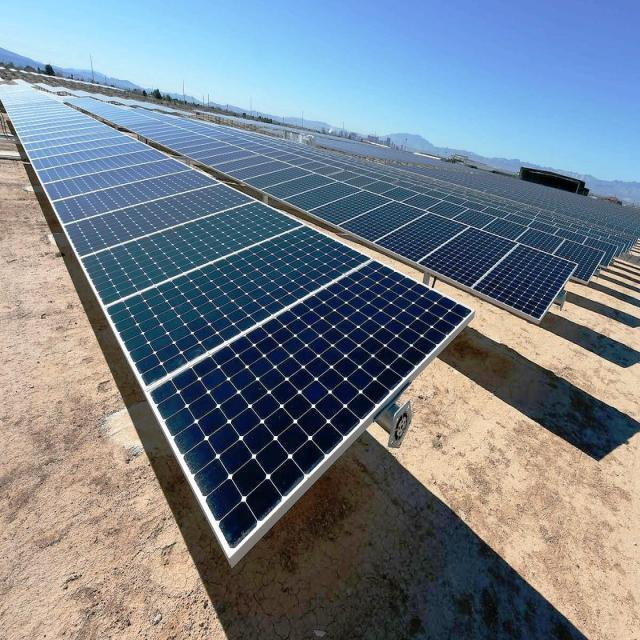no faulty: (148, 256, 473, 559), (2, 82, 301, 302), (105, 220, 372, 398), (82, 195, 298, 306), (61, 178, 258, 260), (478, 248, 584, 322), (422, 214, 504, 288), (382, 204, 462, 272)
